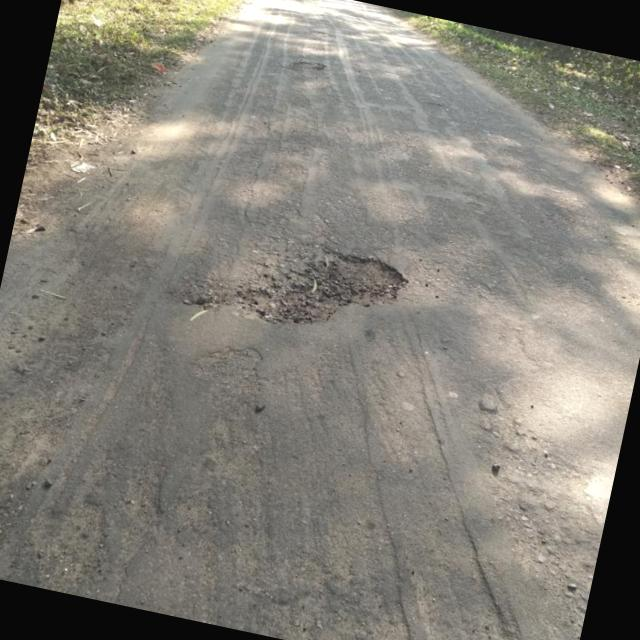Lubang: (237, 248, 406, 323), (290, 60, 325, 71)
